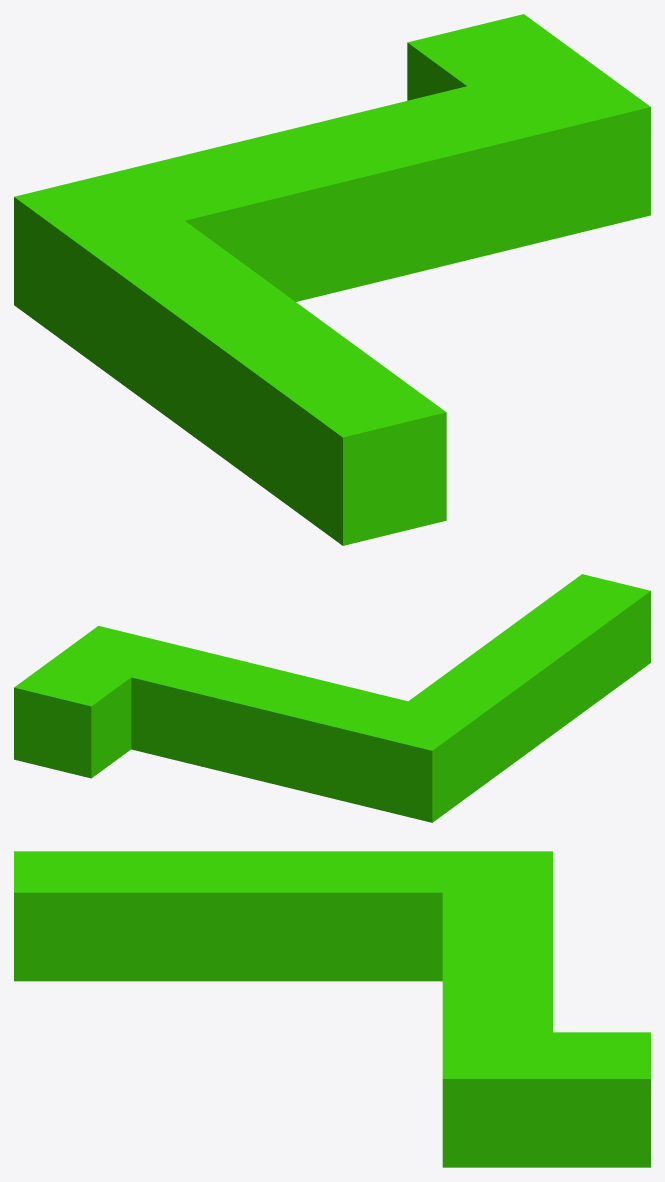
File: Lever Maze Path 1.fbx
3 views of the same model, one above another, from view 1: azimuth 30°, elevation 25°; view 2: azimuth 150°, elevation 25°; view 3: azimuth 270°, elevation 25° (orthographic). The views are drawn at different scales.
Visible parts, largest first — view 1: Cube.001; view 2: Cube.001; view 3: Cube.001.
Boxes of the visible parts, x1,y1,x2,y2 form: Cube.001: (14, 14, 650, 545); Cube.001: (14, 574, 650, 822); Cube.001: (14, 851, 650, 1167).
Bounding box in the file's own units: 113 × 20.53 × 133.
